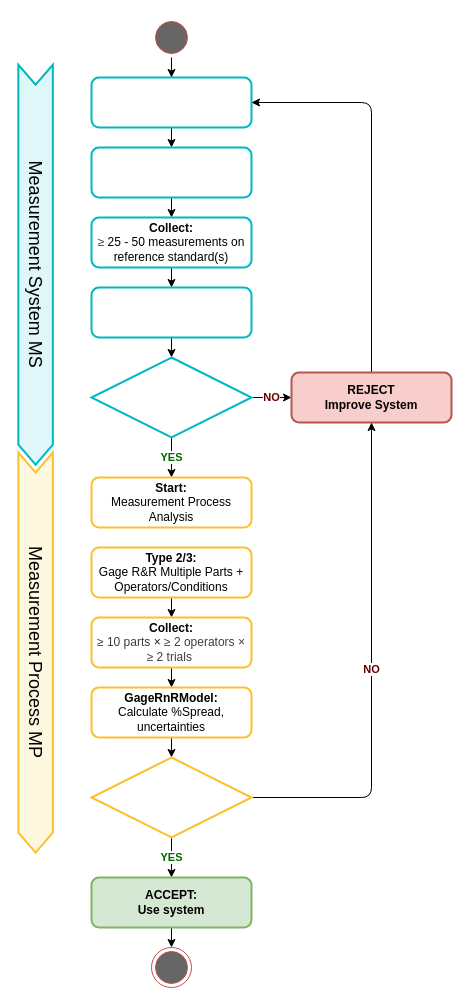
This 470x1005 diagram has some shape labels left out. Here are the shapes that lost their labels. From the top down, the box of each, then its label:
(90, 76, 252, 128): Start: Measurement System Analysis
(90, 146, 252, 198): Typ 1: Gage Study single/multiple References
(90, 286, 252, 338): GageStudyModel: Calculate Cg, Cgk, u_MS
(90, 356, 252, 438): Cg, Cgk ≥ 1.33? Q_MS < 0.15?
(90, 756, 252, 838): %Spread < 30 %? Q_MP < 0.15?
